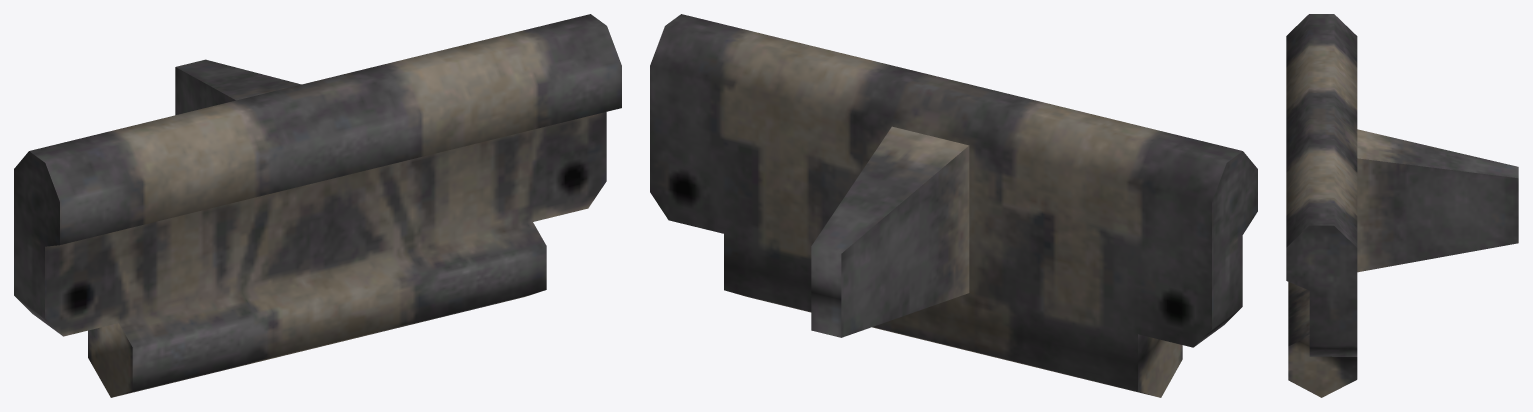
The picture shows the model from 3 angles, left to right: view 1: azimuth 30°, elevation 25°; view 2: azimuth 150°, elevation 25°; view 3: azimuth 270°, elevation 25°; orthographic projection. The views are drawn at different scales.
Visible parts, largest first — view 1: set_0_group_0; view 2: set_0_group_0; view 3: set_0_group_0.
Part boxes in pixels (<box>): set_0_group_0: <box>14,14,621,397</box>; set_0_group_0: <box>650,14,1257,397</box>; set_0_group_0: <box>1286,14,1518,397</box>.
Bounding box in the file's own units: 0.22 × 0.0969 × 0.1021.
Materials: 1 (1 with a texture image).
